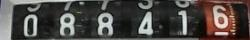digits: (96, 11, 114, 39), (59, 12, 75, 36), (212, 5, 228, 28), (137, 11, 153, 34), (23, 14, 37, 36), (178, 9, 188, 34)
